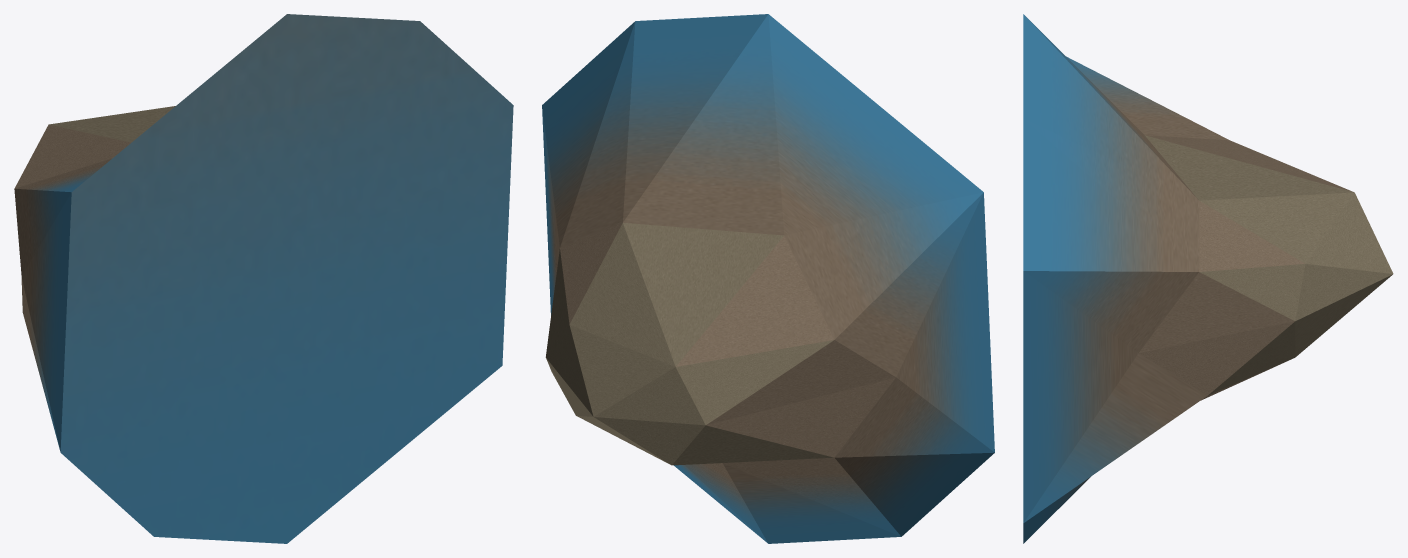
Rendered from green_land_sub_2.FBX.
The picture shows the model from 3 angles, left to right: view 1: azimuth 30°, elevation 25°; view 2: azimuth 150°, elevation 25°; view 3: azimuth 270°, elevation 25°; orthographic projection.
Parts seen in each view (by area): view 1: Icosphere.005; view 2: Icosphere.005; view 3: Icosphere.005.
Boxes of the visible parts, <box> form: Icosphere.005: <box>14,14,513,543</box>; Icosphere.005: <box>542,14,994,543</box>; Icosphere.005: <box>1023,14,1393,543</box>.
Bounding box in the file's own units: 941 × 1052 × 666.
